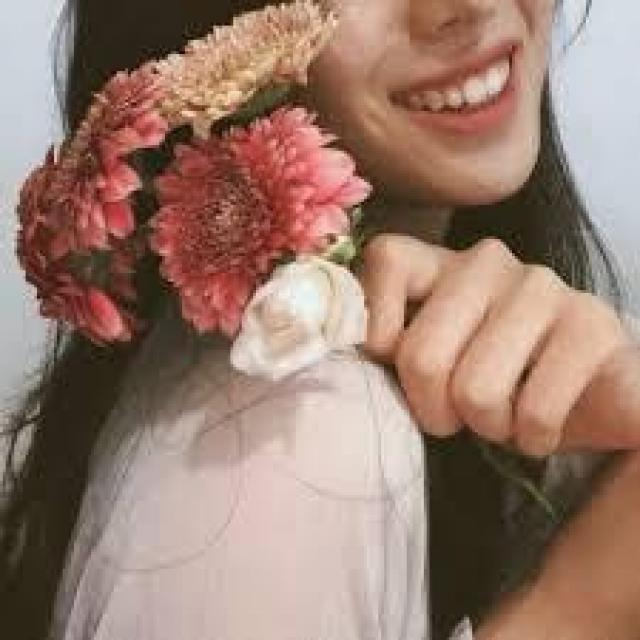organic waste: (145, 144, 341, 337), (30, 74, 146, 361), (139, 11, 347, 120), (244, 272, 376, 391)
